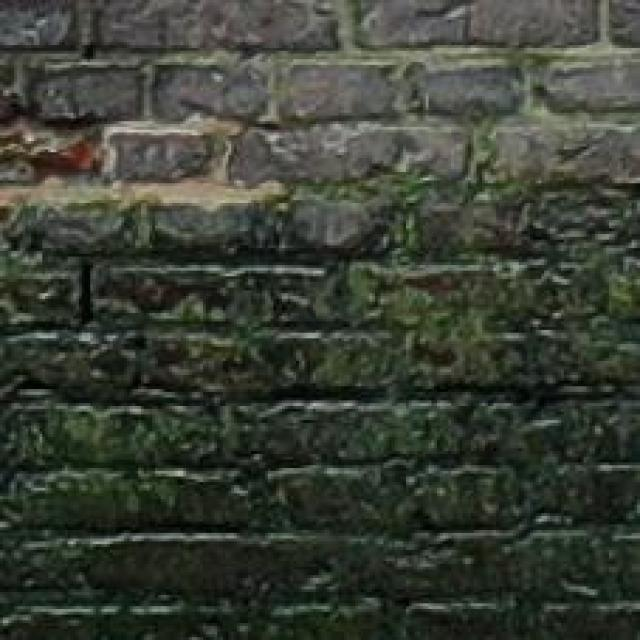Crack: (0, 0, 640, 244)
